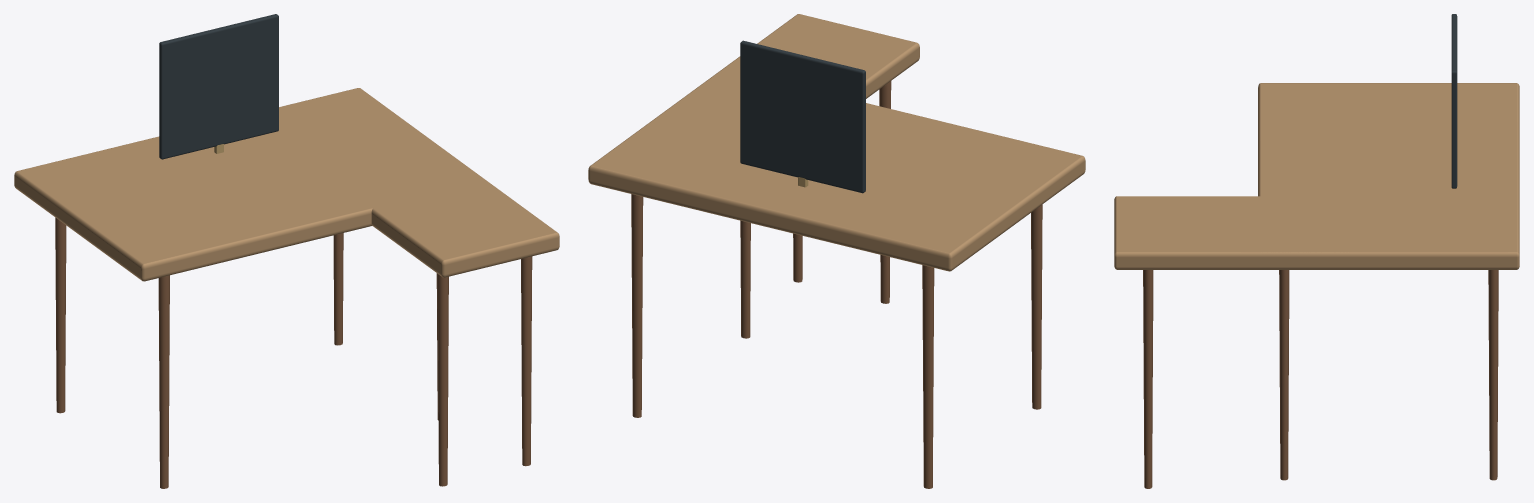
The model's file is desk-5-2.glb.
3 renders of one model, left to right at view 1: azimuth 30°, elevation 25°; view 2: azimuth 150°, elevation 25°; view 3: azimuth 270°, elevation 25°, orthographic. The views are drawn at different scales.
Parts seen in each view (by area): view 1: upholstery (×2), part; view 2: upholstery (×2), part; view 3: upholstery (×2), part.
Part boxes in pixels (left/top/right/bottom): upholstery (×2): left=14, top=14, right=559, bottom=281; part: left=55, top=217, right=532, bottom=488; upholstery (×2): left=588, top=14, right=1085, bottom=271; part: left=631, top=81, right=1042, bottom=488; upholstery (×2): left=1114, top=14, right=1519, bottom=269; part: left=1143, top=270, right=1498, bottom=488.
Size of the model in its own units: 1 by 1 by 1.
